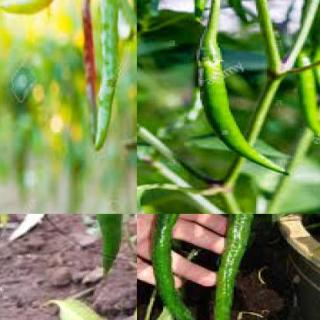green_chilli: (193, 44, 290, 179), (201, 214, 265, 319), (153, 214, 215, 319), (92, 0, 126, 152), (52, 214, 126, 278), (294, 52, 319, 142), (312, 0, 320, 89), (191, 0, 217, 26)
